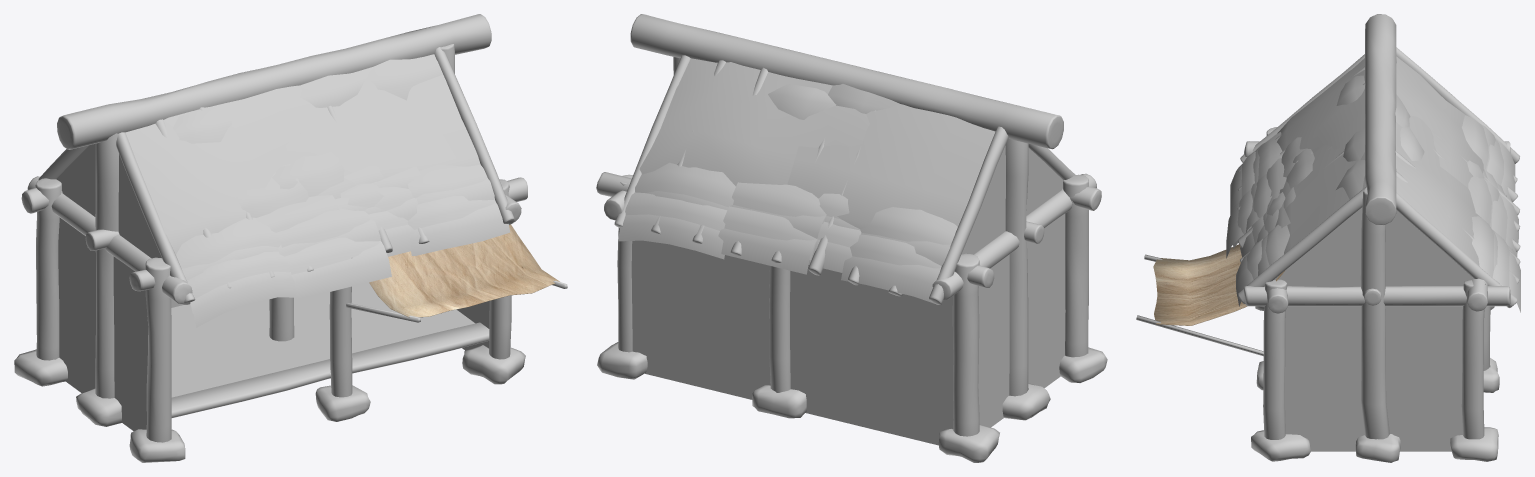
Rendered from ThatchedHouseF.fbx.
The picture shows the model from 3 angles, left to right: view 1: azimuth 30°, elevation 25°; view 2: azimuth 150°, elevation 25°; view 3: azimuth 270°, elevation 25°; orthographic projection. The views are drawn at different scales.
Visible parts, largest first — view 1: ThatchedHouseF_03, RoofAlphaF, RoofAlbedoF, ThatchedHouseF_08, ThatchedHouseF_07, ThatchedHouseF_02, ThatchedHouseF_04, ThatchedHouseF_05; view 2: ThatchedHouseF_08, ThatchedHouseF_03, RoofAlbedoF, RoofAlphaF, ThatchedHouseF_04; view 3: ThatchedHouseF_03, ThatchedHouseF_08, RoofAlbedoF, RoofAlphaF, ThatchedHouseF_02, ThatchedHouseF_04, ThatchedHouseF_01.
Part boxes in pixels (x1,y1,x2,y2): ThatchedHouseF_03: [21, 14, 527, 442]; RoofAlphaF: [173, 59, 510, 327]; RoofAlbedoF: [125, 54, 480, 254]; ThatchedHouseF_08: [56, 143, 489, 431]; ThatchedHouseF_07: [171, 282, 474, 397]; ThatchedHouseF_02: [369, 224, 559, 317]; ThatchedHouseF_04: [14, 345, 525, 462]; ThatchedHouseF_05: [171, 322, 489, 417]; ThatchedHouseF_08: [631, 145, 1065, 445]; ThatchedHouseF_03: [596, 14, 1101, 436]; RoofAlbedoF: [639, 58, 995, 228]; RoofAlphaF: [618, 84, 957, 303]; ThatchedHouseF_04: [597, 342, 1107, 462]; ThatchedHouseF_03: [1237, 14, 1520, 439]; ThatchedHouseF_08: [1274, 207, 1473, 451]; RoofAlbedoF: [1277, 56, 1483, 266]; RoofAlphaF: [1226, 75, 1520, 312]; ThatchedHouseF_02: [1153, 244, 1285, 325]; ThatchedHouseF_04: [1251, 306, 1499, 462]; ThatchedHouseF_01: [1136, 254, 1263, 356].
Bounding box in the file's own units: 239 × 211 × 168.
